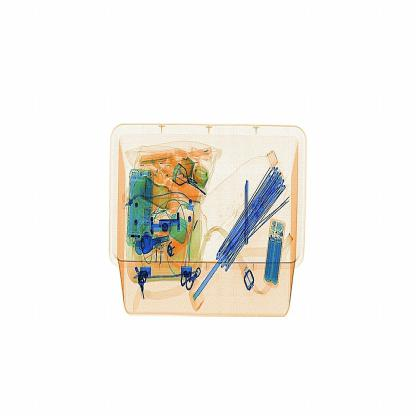pliers: (238, 176, 256, 246)
